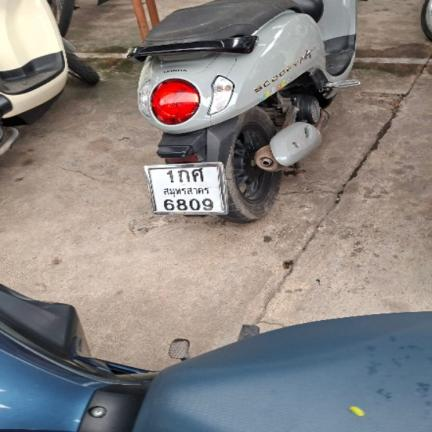0: (190, 198, 202, 211)
1: (164, 169, 176, 183)
6: (162, 199, 176, 211)
8: (176, 198, 189, 211)
9: (202, 198, 214, 211)
A01: (176, 169, 190, 183)
A38: (191, 168, 205, 182)
SKN: (160, 185, 212, 197)
